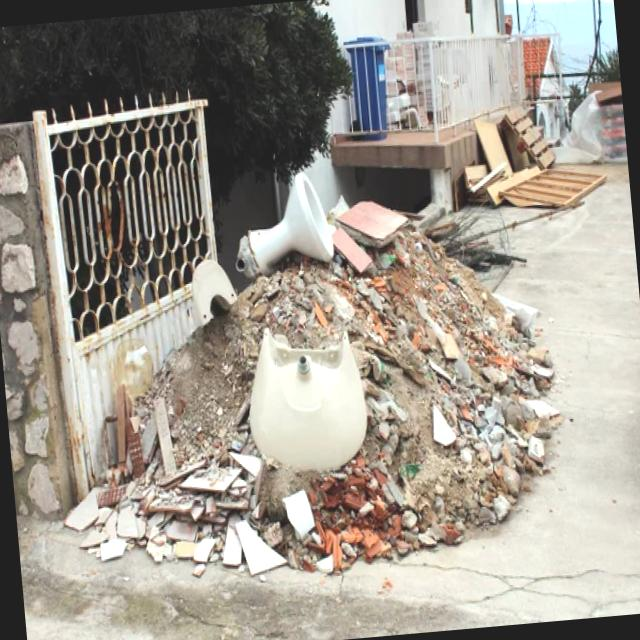garbage: (79, 185, 518, 602)
